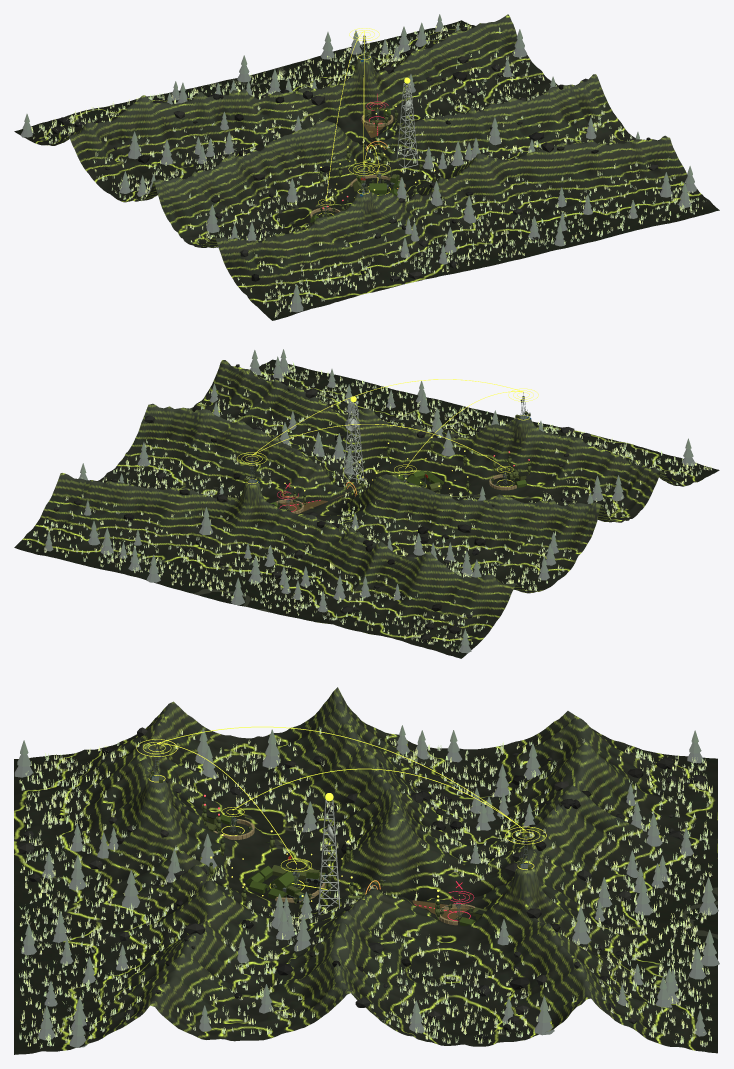
Rendered from terrain_04_multiridge_network.glb.
3 renders of one model, top to bottom at view 1: azimuth 30°, elevation 25°; view 2: azimuth 150°, elevation 25°; view 3: azimuth 270°, elevation 25°, orthographic. The views are drawn at different scales.
Visible parts, largest first — view 1: T04__terrain_04_multiridge_network, T04__VEG_grass, T04__VEG_trees, T04__VEG_rocks, T04__PROP_lime, T04__DET_lattice_tower; view 2: T04__terrain_04_multiridge_network, T04__VEG_grass, T04__VEG_trees, T04__VEG_rocks, T04__PROP_lime, T04__DET_lattice_tower, T04__PROP_canvas; view 3: T04__terrain_04_multiridge_network, T04__VEG_grass, T04__VEG_trees, T04__VEG_rocks, T04__PROP_lime, T04__PROP_canvas, T04__DET_lattice_tower, T04__PROP_steel, T04__PROP_sand, T04__PROP_canvas2.
Part boxes in pixels (x1,y1,x2,y2): T04__terrain_04_multiridge_network: (14, 14, 719, 320); T04__VEG_grass: (31, 22, 704, 317); T04__VEG_trees: (20, 14, 696, 312); T04__VEG_rocks: (51, 26, 671, 281); T04__PROP_lime: (318, 28, 390, 214); T04__DET_lattice_tower: (396, 83, 418, 168); T04__terrain_04_multiridge_network: (14, 359, 719, 658); T04__VEG_grass: (26, 361, 711, 652); T04__VEG_trees: (44, 349, 694, 653); T04__VEG_rocks: (54, 364, 671, 643); T04__PROP_lime: (237, 379, 538, 496); T04__DET_lattice_tower: (343, 401, 364, 484); T04__PROP_canvas: (270, 470, 526, 506); T04__terrain_04_multiridge_network: (14, 687, 717, 1054); T04__VEG_grass: (19, 727, 712, 1048); T04__VEG_trees: (14, 725, 719, 1047); T04__VEG_rocks: (18, 727, 707, 1040); T04__PROP_lime: (136, 726, 546, 899); T04__PROP_canvas: (220, 814, 475, 925); T04__DET_lattice_tower: (318, 800, 339, 914); T04__PROP_steel: (150, 744, 531, 919); T04__PROP_sand: (213, 819, 475, 925); T04__PROP_canvas2: (159, 777, 531, 919).
Bounding box in the file's own units: 100 × 25.95 × 100.
Materials: 23 (1 with a texture image).
